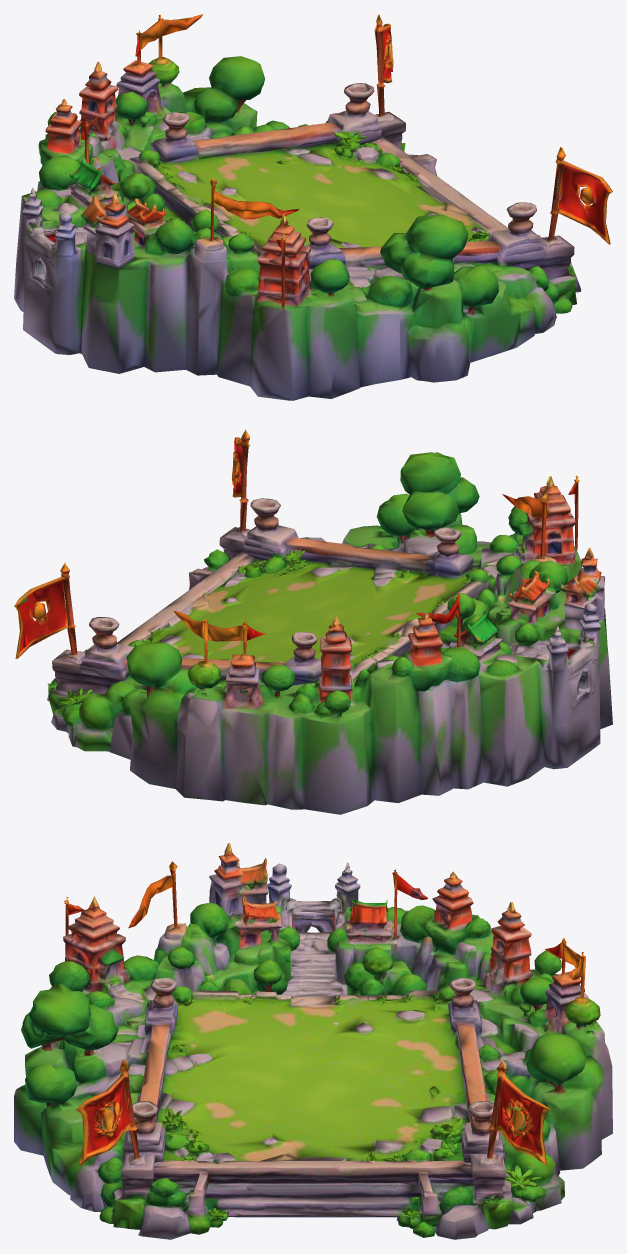
The model's file is scenery.glb.
3 renders of one model, top to bottom at view 1: azimuth 30°, elevation 25°; view 2: azimuth 150°, elevation 25°; view 3: azimuth 270°, elevation 25°, orthographic. The views are drawn at different scales.
Visible parts, largest first — view 1: tripo_node_009ab50a-749b-4f56-860f-916e52c837fb; view 2: tripo_node_009ab50a-749b-4f56-860f-916e52c837fb; view 3: tripo_node_009ab50a-749b-4f56-860f-916e52c837fb.
Boxes of the visible parts, x1,y1,x2,y2 form: tripo_node_009ab50a-749b-4f56-860f-916e52c837fb: (14, 14, 612, 400); tripo_node_009ab50a-749b-4f56-860f-916e52c837fb: (14, 429, 612, 814); tripo_node_009ab50a-749b-4f56-860f-916e52c837fb: (14, 843, 612, 1239).
Bounding box in the file's own units: 0.9178 × 0.3553 × 0.9795.
Materials: 1 (1 with a texture image).
